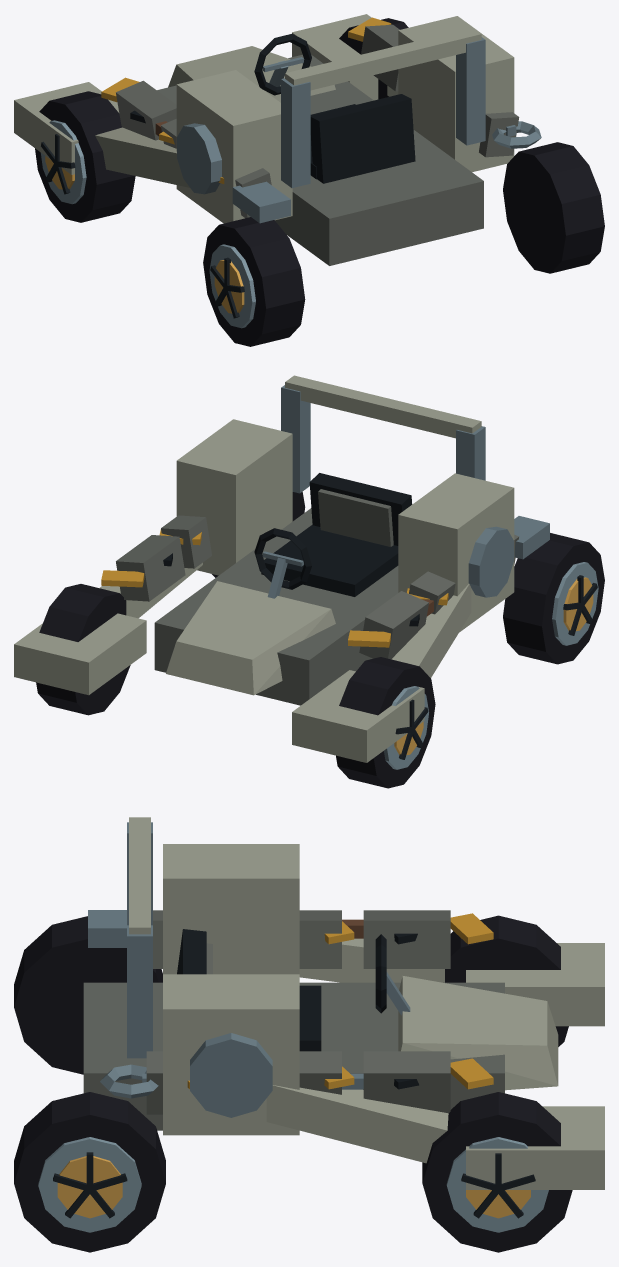
File: kart.glb
3 views of the same model, one above another, from view 1: azimuth 30°, elevation 25°; view 2: azimuth 150°, elevation 25°; view 3: azimuth 270°, elevation 25° (orthographic). The views are drawn at different scales.
Visible parts, largest first — view 1: identity-mech-mech-articulated-limbs-and-open-harness, wheel-rear-right, wheel-rear-left, identity-mech-driver-cockpit, wheel-front-left, identity-mech-motif-armor, identity-mech-motif-tools, identity-mech-motif-hazard-stripes, wheel-front-right; view 2: identity-mech-mech-articulated-limbs-and-open-harness, identity-mech-driver-cockpit, wheel-rear-left, identity-mech-motif-armor, wheel-front-left, wheel-front-right, identity-mech-motif-hazard-stripes, identity-mech-motif-tools; view 3: identity-mech-mech-articulated-limbs-and-open-harness, wheel-rear-right, wheel-front-right, identity-mech-motif-armor, wheel-rear-left, wheel-front-left, identity-mech-driver-cockpit, identity-mech-motif-tools, identity-mech-motif-hazard-stripes.
Part boxes in pixels (left/top/right/bottom): identity-mech-mech-articulated-limbs-and-open-harness: left=14, top=14, right=514, bottom=265; wheel-rear-right: left=503, top=142, right=604, bottom=273; wheel-rear-left: left=203, top=217, right=305, bottom=346; identity-mech-driver-cockpit: left=254, top=34, right=415, bottom=183; wheel-front-left: left=35, top=91, right=135, bottom=222; identity-mech-motif-armor: left=116, top=24, right=519, bottom=218; identity-mech-motif-tools: left=155, top=121, right=541, bottom=223; identity-mech-motif-hazard-stripes: left=101, top=17, right=391, bottom=183; wheel-front-right: left=339, top=18, right=408, bottom=99; identity-mech-mech-articulated-limbs-and-open-harness: left=14, top=375, right=514, bottom=762; identity-mech-driver-cockpit: left=254, top=473, right=412, bottom=598; wheel-rear-left: left=503, top=533, right=604, bottom=664; identity-mech-motif-armor: left=116, top=515, right=518, bottom=659; wheel-front-left: left=336, top=657, right=435, bottom=788; wheel-front-right: left=36, top=584, right=130, bottom=715; identity-mech-motif-hazard-stripes: left=101, top=529, right=448, bottom=647; identity-mech-motif-tools: left=423, top=516, right=549, bottom=616; identity-mech-mech-articulated-limbs-and-open-harness: left=83, top=817, right=604, bottom=1189; wheel-rear-right: left=14, top=1092, right=165, bottom=1252; wheel-front-right: left=422, top=1092, right=572, bottom=1252; identity-mech-motif-armor: left=146, top=910, right=450, bottom=1114; wheel-rear-left: left=14, top=916, right=162, bottom=1074; wheel-front-left: left=445, top=915, right=568, bottom=1046; identity-mech-driver-cockpit: left=177, top=929, right=410, bottom=1051; identity-mech-motif-tools: left=88, top=910, right=363, bottom=1098; identity-mech-motif-hazard-stripes: left=187, top=913, right=493, bottom=1089.
Size of the model in its own units: 2.29 by 1.42 by 2.72.
